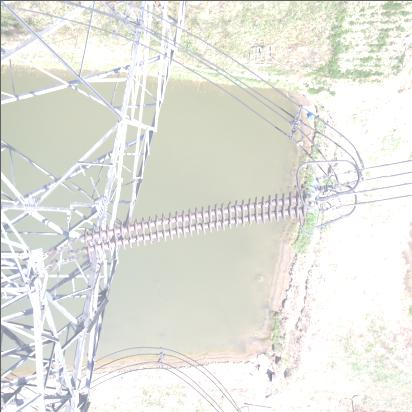insulator: (69, 179, 314, 267)
